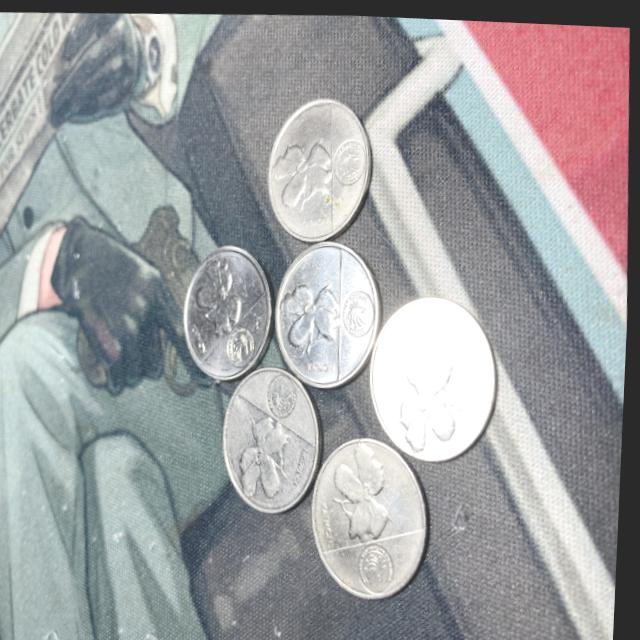25Cent_New_Back: (268, 125, 340, 214), (326, 450, 393, 544), (279, 260, 345, 352), (235, 418, 295, 498), (194, 262, 252, 336)
